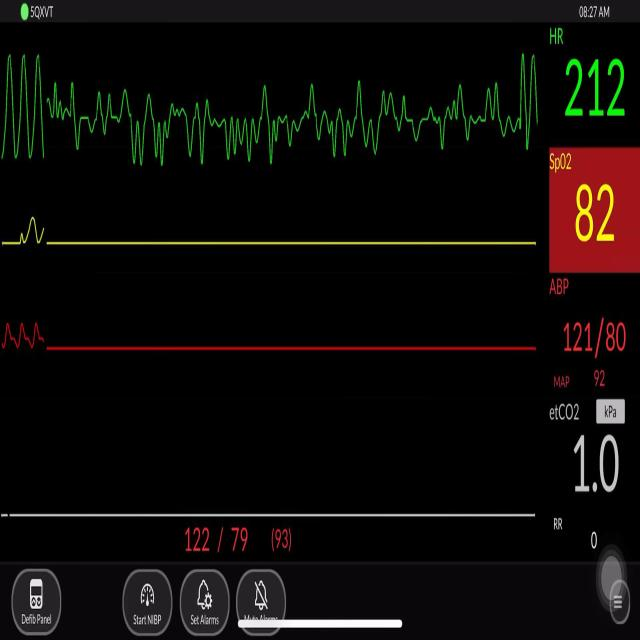danger: (4, 36, 54, 169)
